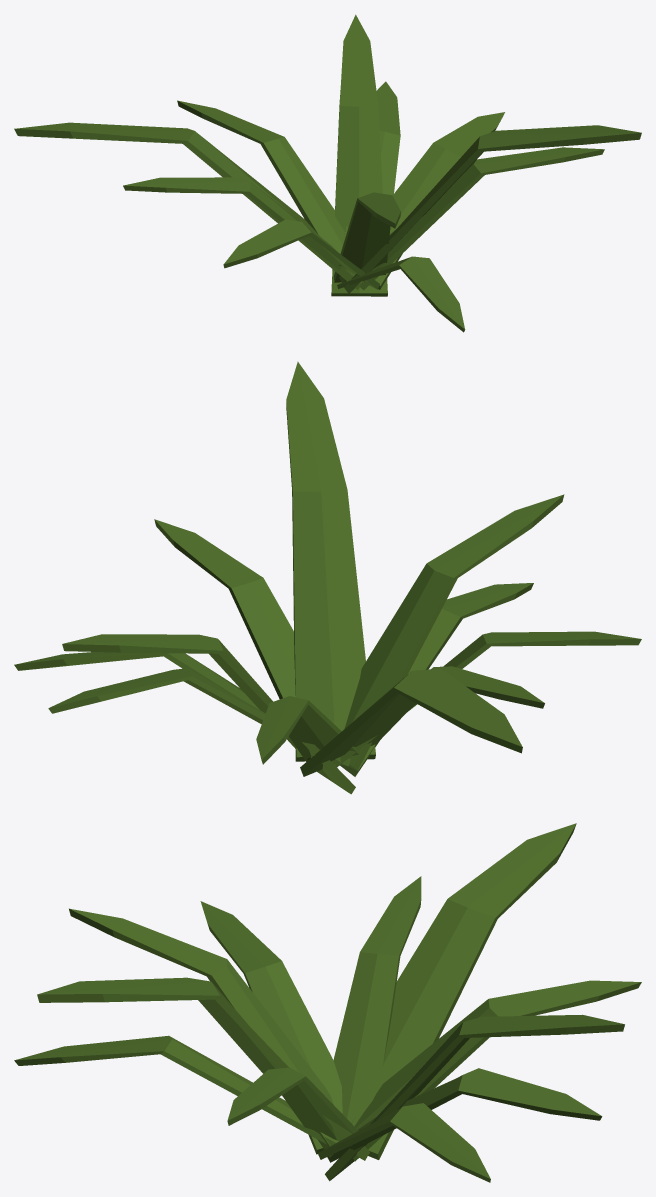
File: Plant_02.fbx
3 renders of one model, top to bottom at view 1: azimuth 30°, elevation 25°; view 2: azimuth 150°, elevation 25°; view 3: azimuth 270°, elevation 25°, orthographic. The views are drawn at different scales.
Visible parts, largest first — view 1: Plant_02; view 2: Plant_02; view 3: Plant_02.
Boxes of the visible parts, left/top/right/bottom form: Plant_02: left=14, top=14, right=641, bottom=332; Plant_02: left=14, top=361, right=641, bottom=794; Plant_02: left=14, top=823, right=641, bottom=1182.
Size of the model in its own units: 788 by 361 by 768.
